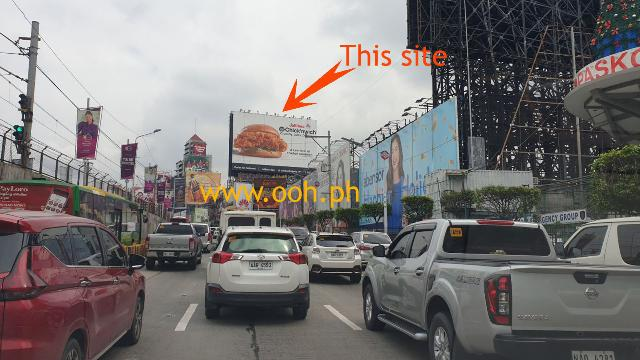car: (0, 210, 148, 358), (203, 230, 313, 320), (297, 231, 355, 283), (353, 231, 391, 269)
pickup-truck: (359, 215, 640, 360), (144, 221, 203, 270)
